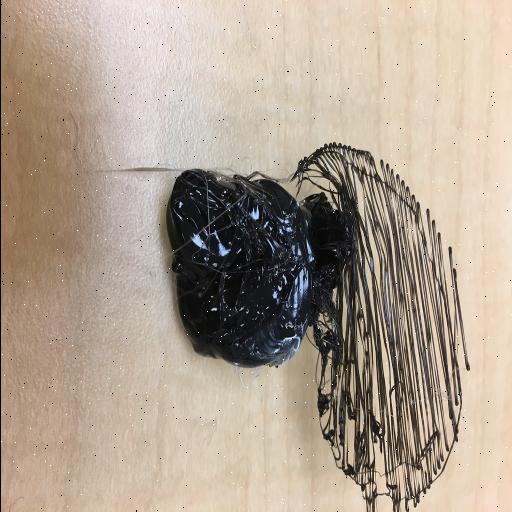stringing: (291, 122, 474, 512)
